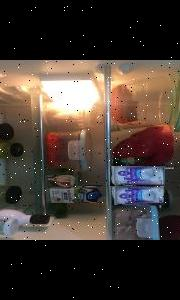Limón: (0, 152, 9, 168)
Yogur: (109, 167, 164, 186), (111, 187, 163, 205)
